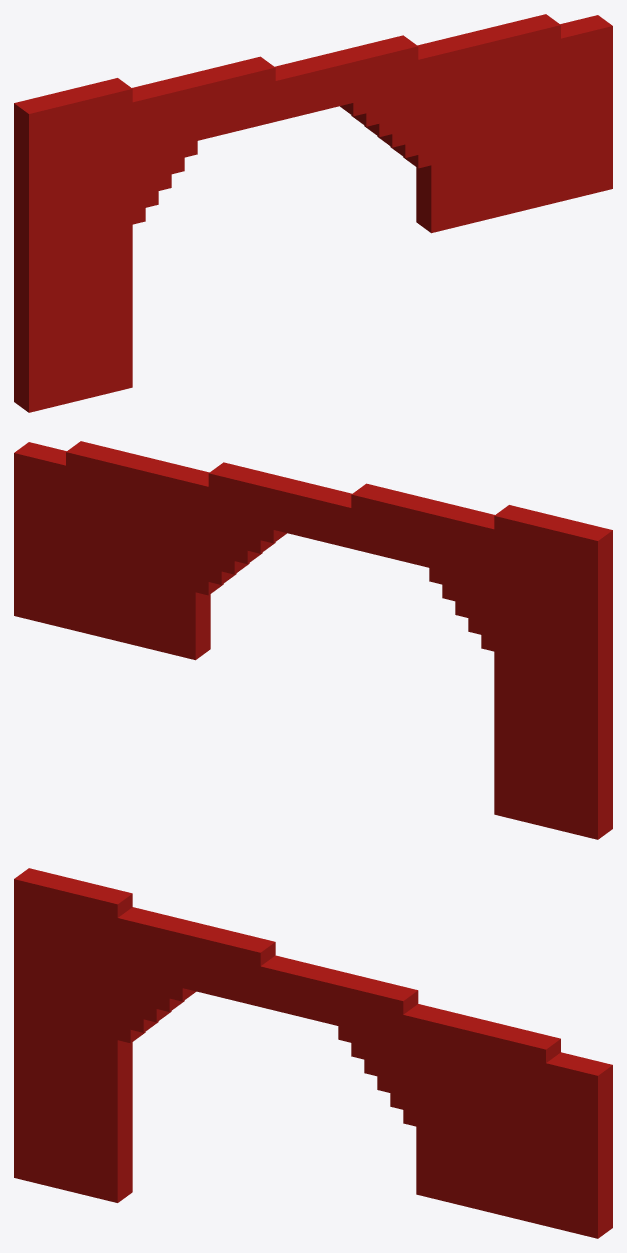
File: convertible_front_wing.glb
The picture shows the model from 3 angles, top to bottom: view 1: azimuth 30°, elevation 25°; view 2: azimuth 150°, elevation 25°; view 3: azimuth 330°, elevation 25°; orthographic projection.
Visible parts, largest first — view 1: body:compound; view 2: body:compound; view 3: body:compound.
Part boxes in pixels (x1,y1,x2,y2): body:compound: (14, 14, 612, 412); body:compound: (14, 441, 612, 839); body:compound: (14, 868, 612, 1238).
Size of the model in its own units: 1.41 by 0.6875 by 0.0625.
